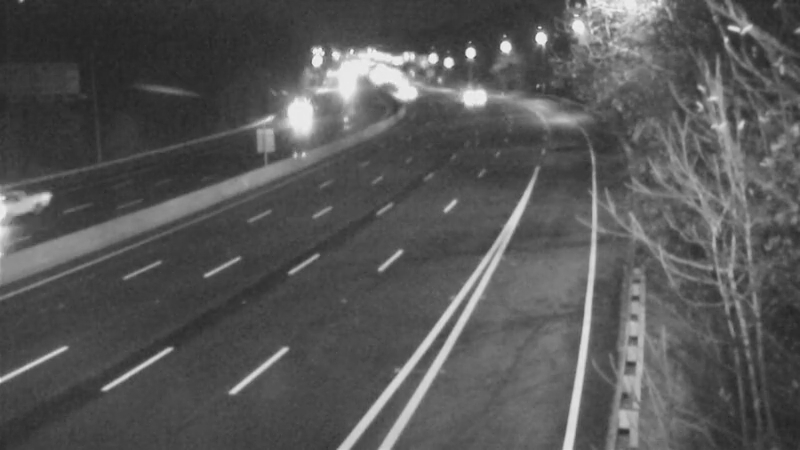vehicle: (1, 164, 66, 244), (383, 68, 433, 118), (442, 68, 492, 118), (273, 90, 323, 140)
